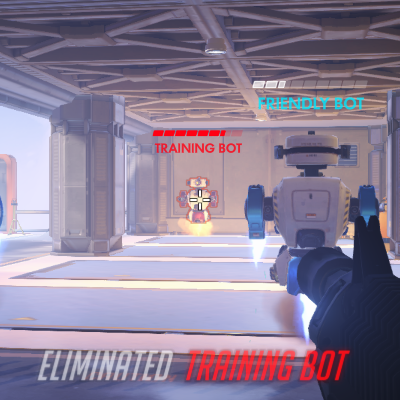hpbar: (152, 129, 244, 137)
